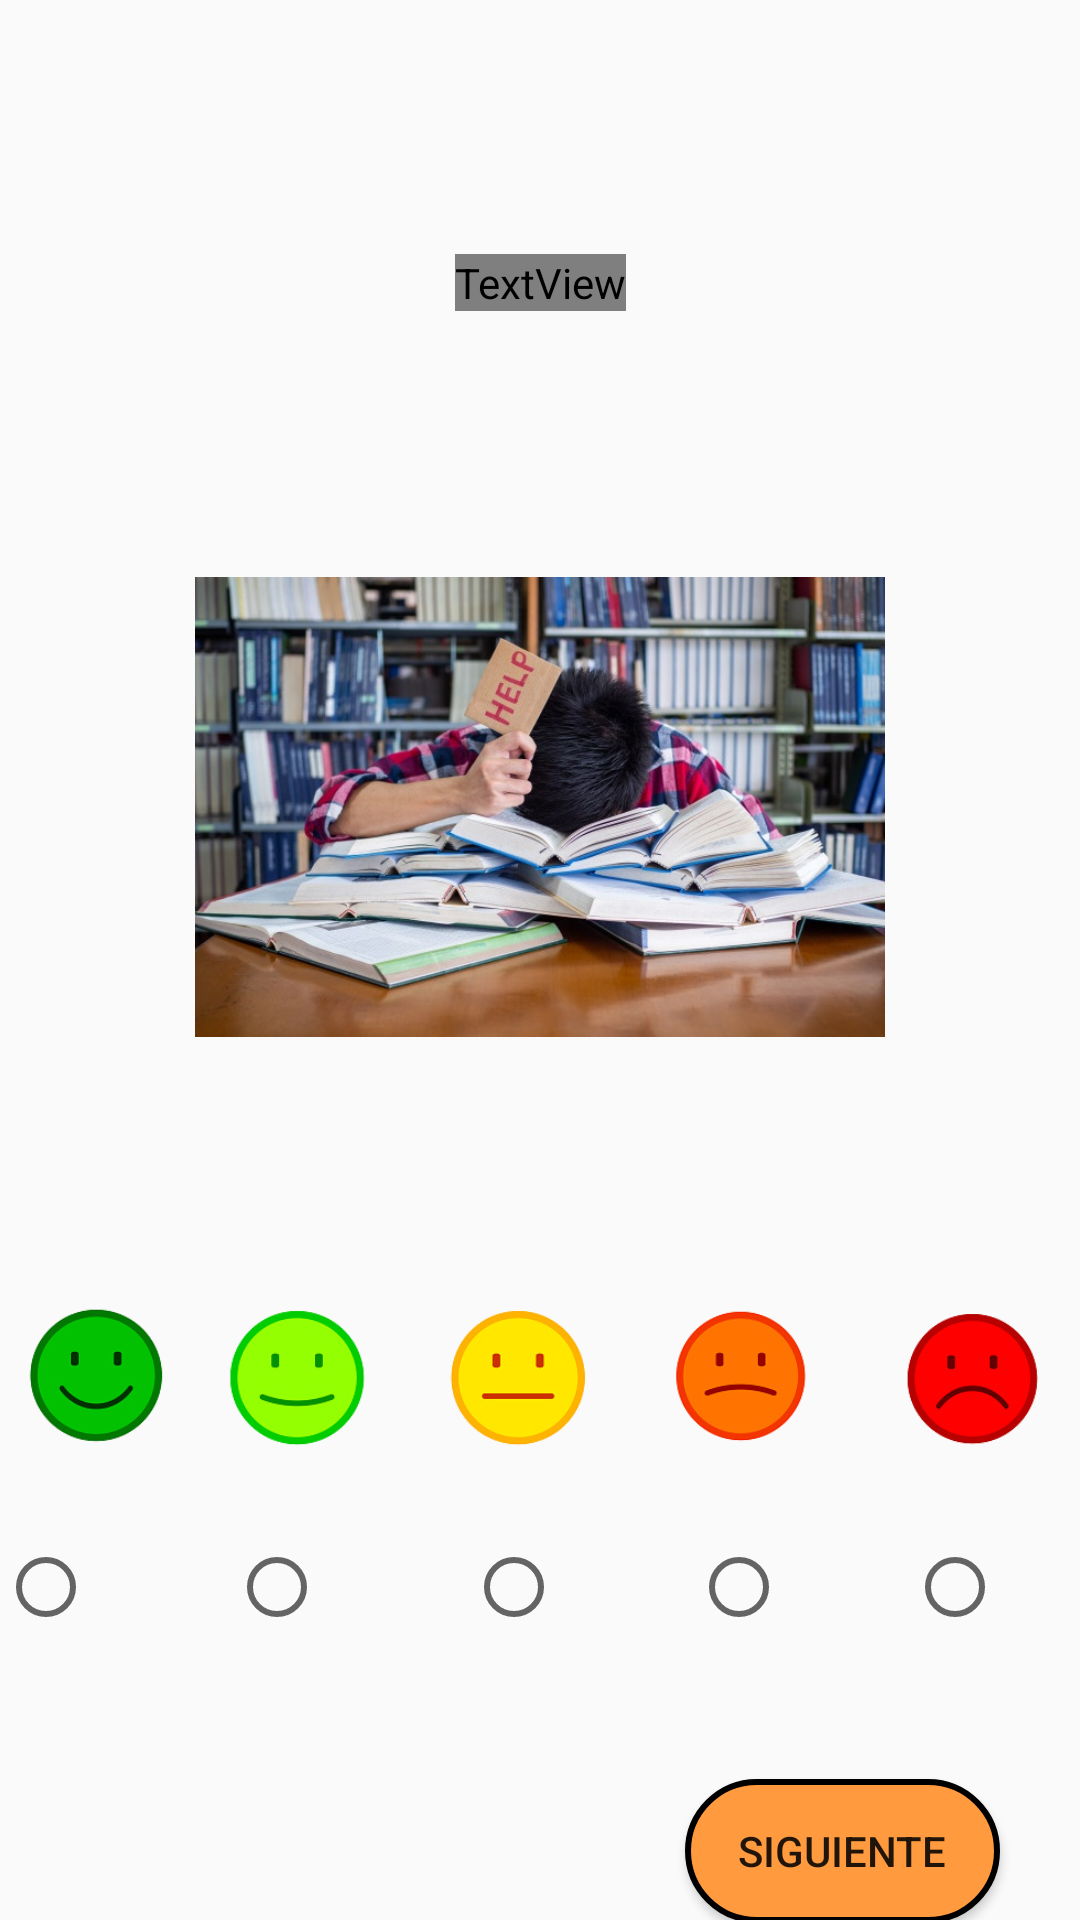

Named icons in this screenshot (1080x1920) and their bounding boxes, [x1, y1, x2, y2]:
carita: [30, 1309, 163, 1442], [230, 1311, 365, 1445], [450, 1311, 585, 1445], [676, 1311, 806, 1441], [907, 1314, 1038, 1444]
